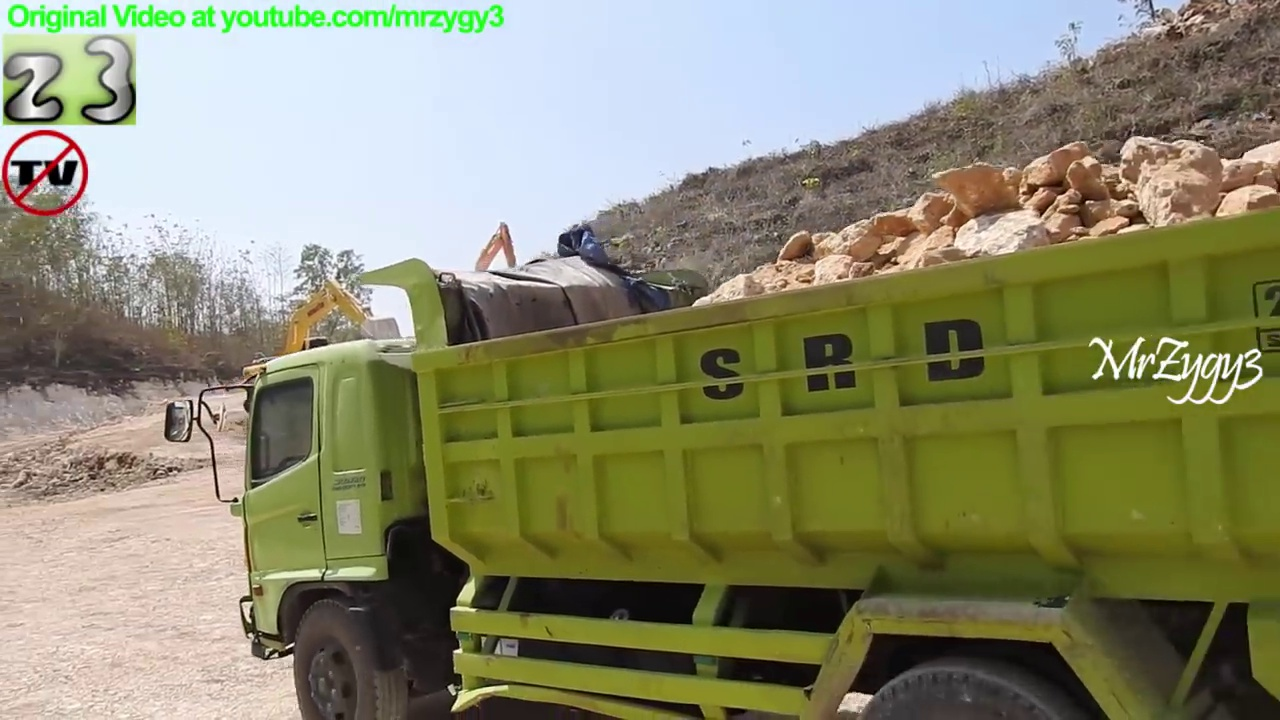excavator: (231, 274, 412, 428), (440, 217, 546, 362)
truck: (154, 250, 1280, 720)
